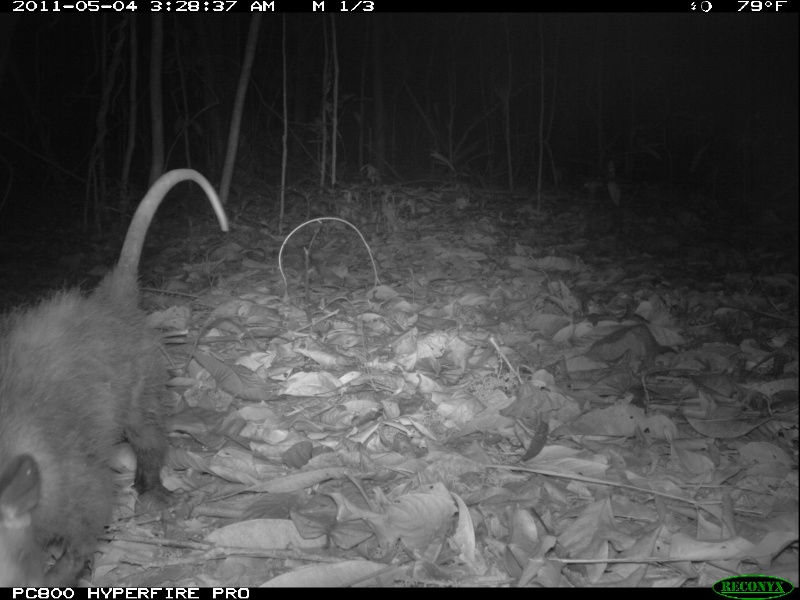opossum: (1, 165, 231, 587)
